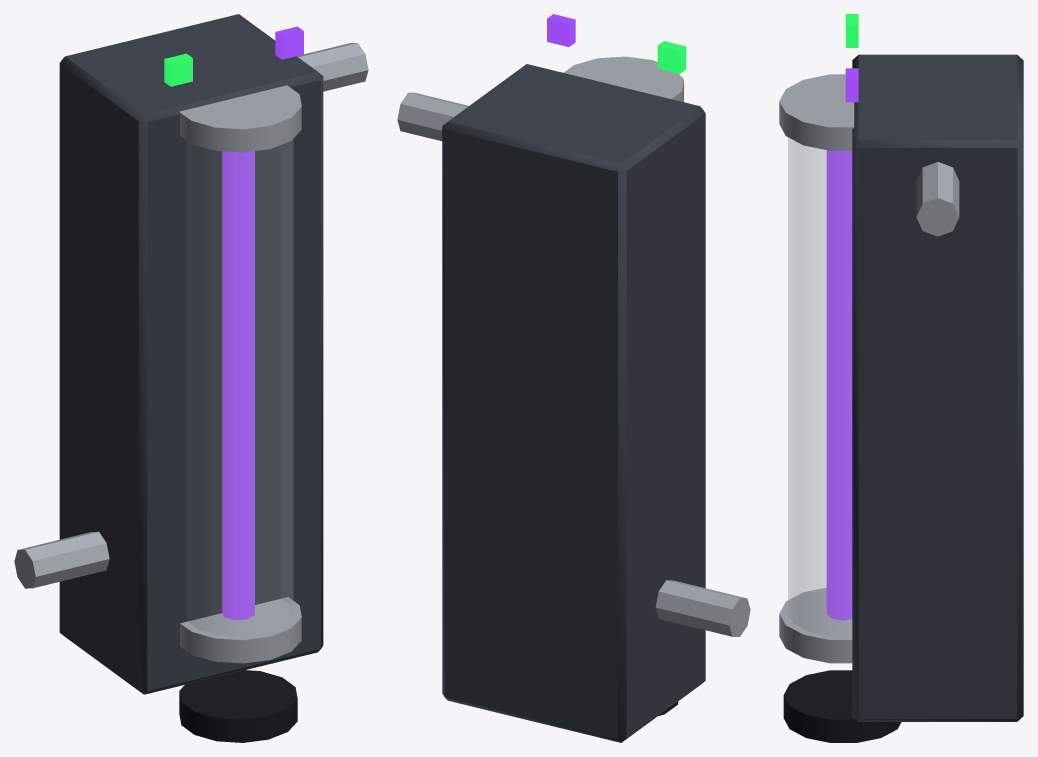
File: watertank_uv_water_purifier.glb
The picture shows the model from 3 angles, left to right: view 1: azimuth 30°, elevation 25°; view 2: azimuth 150°, elevation 25°; view 3: azimuth 270°, elevation 25°; orthographic projection.
Visible parts, largest first — view 1: watertank_uv_water_purifier; view 2: watertank_uv_water_purifier; view 3: watertank_uv_water_purifier.
Boxes of the visible parts, x1=… form: watertank_uv_water_purifier: x1=14, y1=14, x2=368, y2=742; watertank_uv_water_purifier: x1=397, y1=14, x2=750, y2=742; watertank_uv_water_purifier: x1=779, y1=14, x2=1023, y2=742.
Size of the model in its own units: 0.9 by 1.73 by 0.57.
